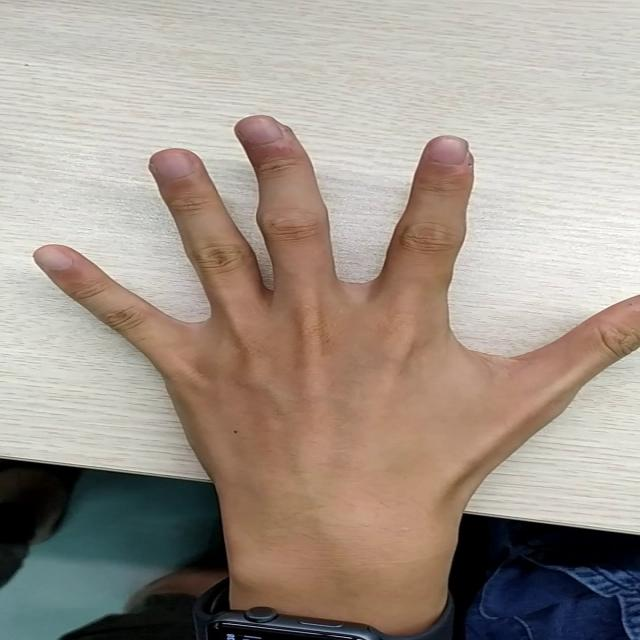hand: (58, 106, 632, 478)
